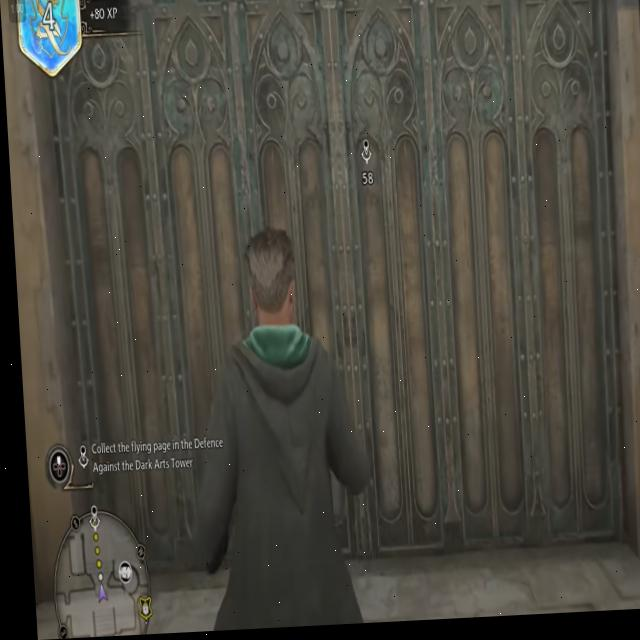compass: (360, 141, 368, 162), (74, 444, 82, 464), (84, 505, 92, 525)
